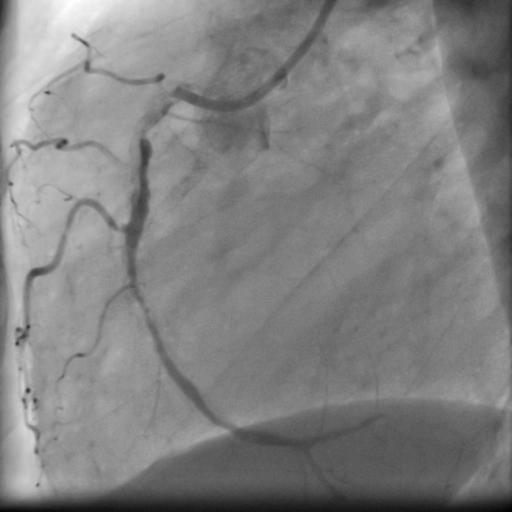Stenosis: (131, 121, 150, 142)
